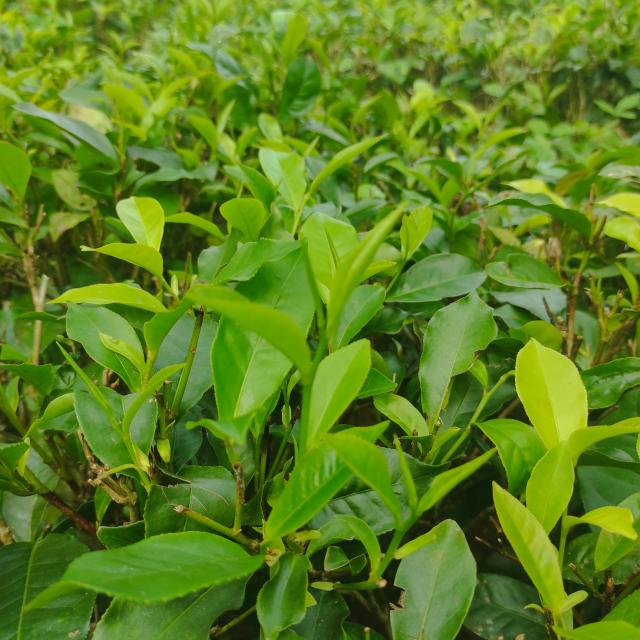unopened_leaf: (321, 187, 421, 340), (50, 333, 126, 434), (300, 227, 327, 334), (387, 428, 420, 513), (318, 218, 345, 272)
